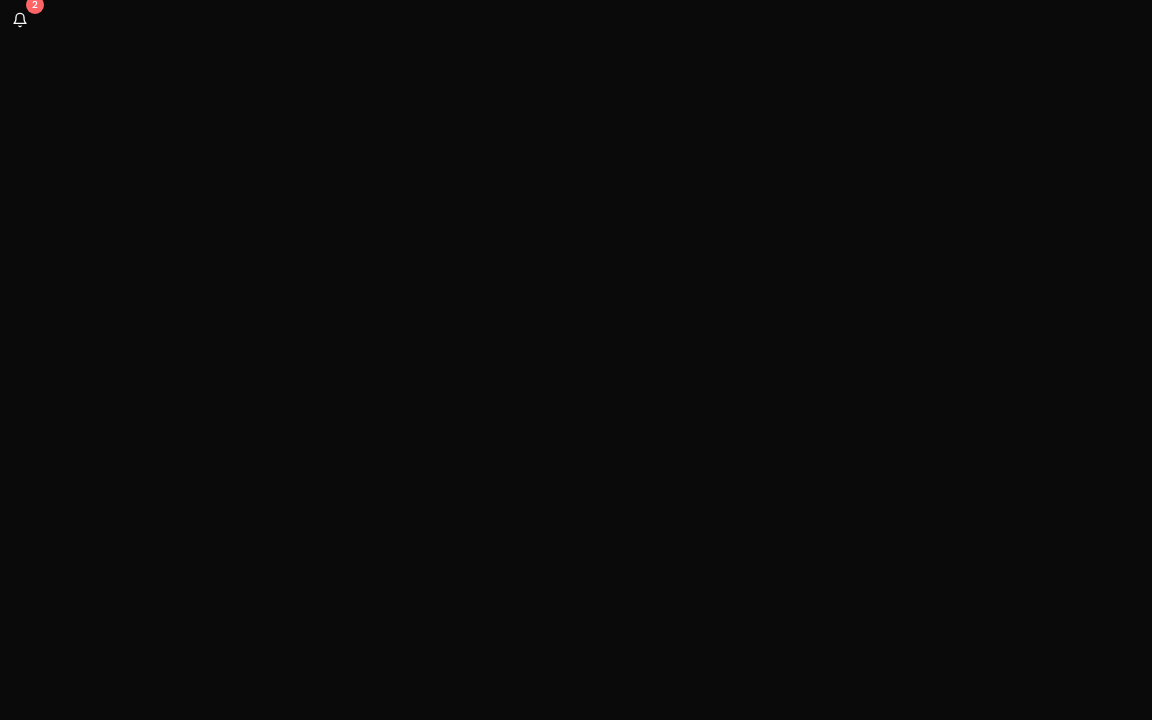
Test: AdminNotificationBell (platform admins) › shows the directed items, unread badge equals the server count, and no ids are displayed
What coordinates should you click on to do the following:
click the button
I would click on:
 (20, 20)
Its box is top-left (0, 0), bottom-right (40, 40).
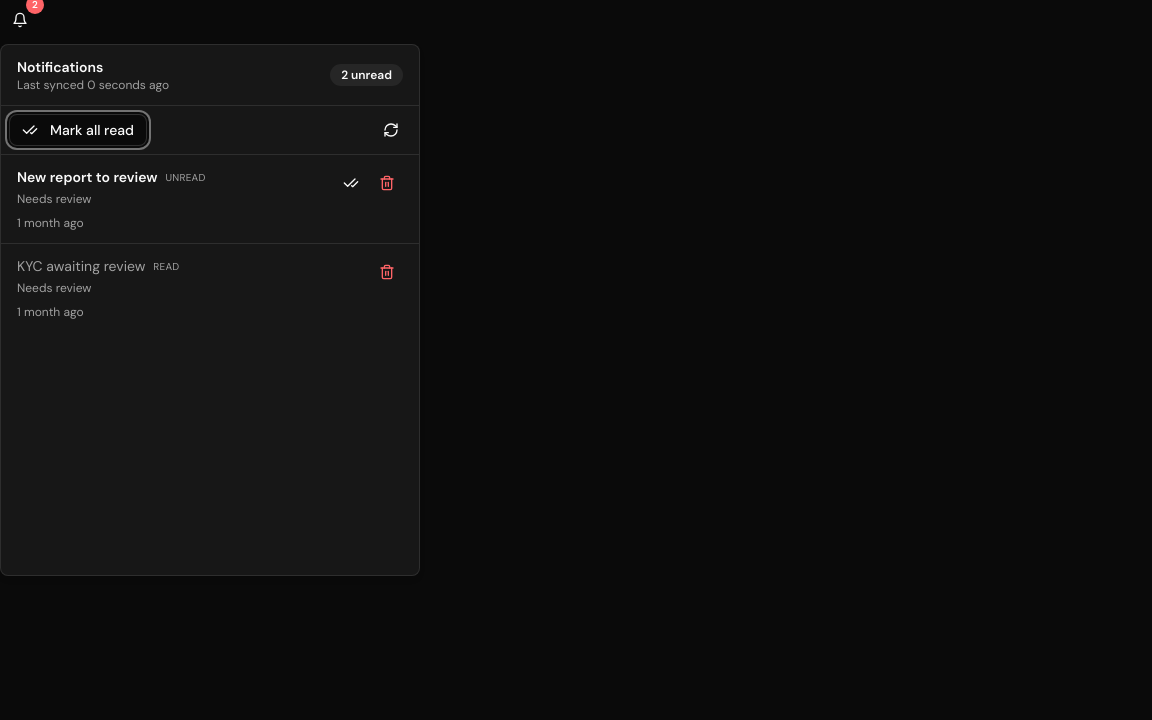
expect the text "New report to review" is shown: met, box top-left (17, 167), bottom-right (158, 187)
expect the text "KYC awaiting review" is shown: met, box top-left (17, 256), bottom-right (145, 276)
